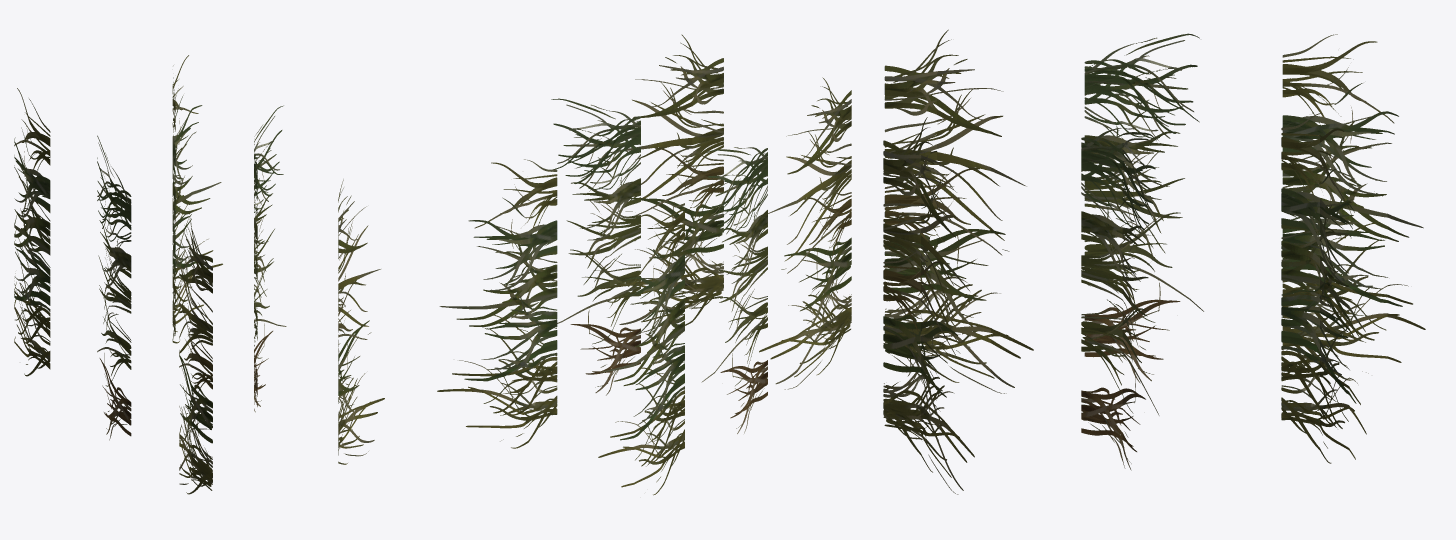
File: realtime_grass.glb
The picture shows the model from 3 angles, left to right: view 1: azimuth 30°, elevation 25°; view 2: azimuth 150°, elevation 25°; view 3: azimuth 270°, elevation 25°; orthographic projection. The views are drawn at different scales.
Visible parts, largest first — view 1: Plate3.003_Plate3_0, Plate1.003_Plate1_0, Plate2.003_Plate2_0, Plate1.002_Plate1_0, Plate3.002_Plate3_0, Plate2.002_Plate2_0; view 2: Plate3.002_Plate3_0, Plate1.002_Plate1_0, Plate2.002_Plate2_0, Plate1.003_Plate1_0, Plate3.003_Plate3_0, Plate2.003_Plate2_0; view 3: Plate1.003_Plate1_0, Plate3.003_Plate3_0, Plate3.002_Plate3_0, Plate1.002_Plate1_0, Plate2.003_Plate2_0, Plate2.002_Plate2_0.
Part boxes in pixels (x1=…): Plate3.003_Plate3_0: x1=14, y1=88, x2=50, y2=376; Plate1.003_Plate1_0: x1=179, y1=211, x2=212, y2=494; Plate2.003_Plate2_0: x1=97, y1=135, x2=131, y2=440; Plate1.002_Plate1_0: x1=338, y1=179, x2=384, y2=464; Plate3.002_Plate3_0: x1=172, y1=55, x2=222, y2=343; Plate2.002_Plate2_0: x1=254, y1=105, x2=286, y2=412; Plate3.002_Plate3_0: x1=437, y1=159, x2=557, y2=448; Plate1.002_Plate1_0: x1=601, y1=34, x2=723, y2=332; Plate2.002_Plate2_0: x1=551, y1=98, x2=640, y2=395; Plate1.003_Plate1_0: x1=759, y1=77, x2=851, y2=389; Plate3.003_Plate3_0: x1=598, y1=201, x2=684, y2=495; Plate2.003_Plate2_0: x1=701, y1=147, x2=767, y2=433; Plate1.003_Plate1_0: x1=884, y1=29, x2=1033, y2=393; Plate3.003_Plate3_0: x1=1282, y1=34, x2=1425, y2=380; Plate3.002_Plate3_0: x1=1281, y1=113, x2=1366, y2=463; Plate1.002_Plate1_0: x1=883, y1=117, x2=974, y2=494; Plate2.003_Plate2_0: x1=1084, y1=33, x2=1203, y2=383; Plate2.002_Plate2_0: x1=1081, y1=127, x2=1159, y2=470.
Bounding box in the file's own units: 0.3092 × 0.42 × 0.553.
Materials: 3 (3 with a texture image).
